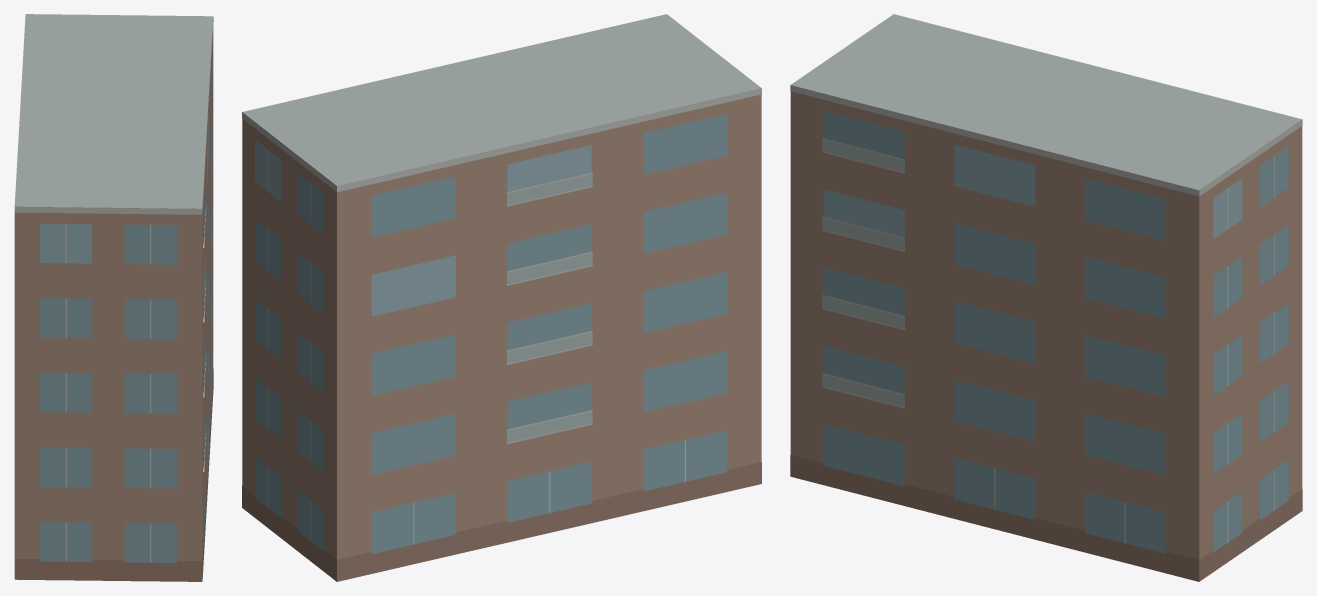
The model's file is survey-upis-32975269.glb.
3 renders of one model, left to right at view 1: azimuth 30°, elevation 25°; view 2: azimuth 150°, elevation 25°; view 3: azimuth 270°, elevation 25°, orthographic. The views are drawn at different scales.
Visible parts, largest first — view 1: survey-upis-32975269.tmp; view 2: survey-upis-32975269.tmp; view 3: survey-upis-32975269.tmp.
Part boxes in pixels (x1,y1,x2,y2): survey-upis-32975269.tmp: (14, 14, 213, 581); survey-upis-32975269.tmp: (242, 14, 761, 581); survey-upis-32975269.tmp: (790, 14, 1302, 581).
Bounding box in the file's own units: 14.88 × 15.4 × 18.26.
